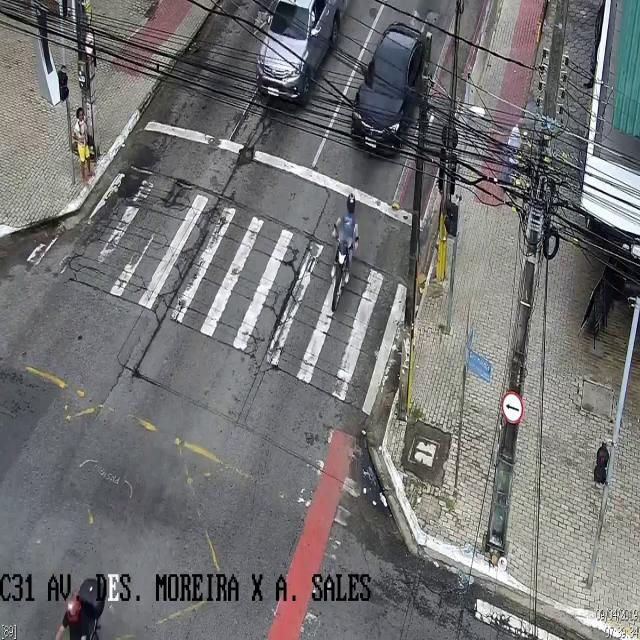Car: (352, 21, 424, 153), (259, 0, 333, 101)
Motorcycle: (330, 191, 360, 311), (53, 581, 107, 639)
